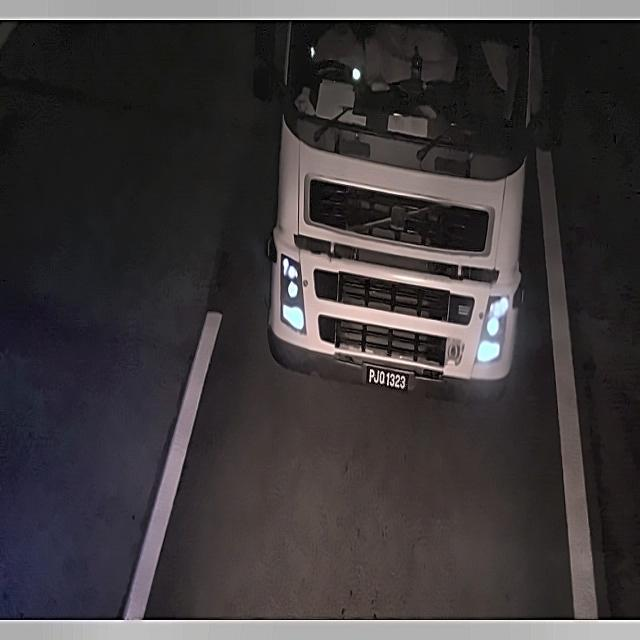car: (358, 358, 416, 398)
